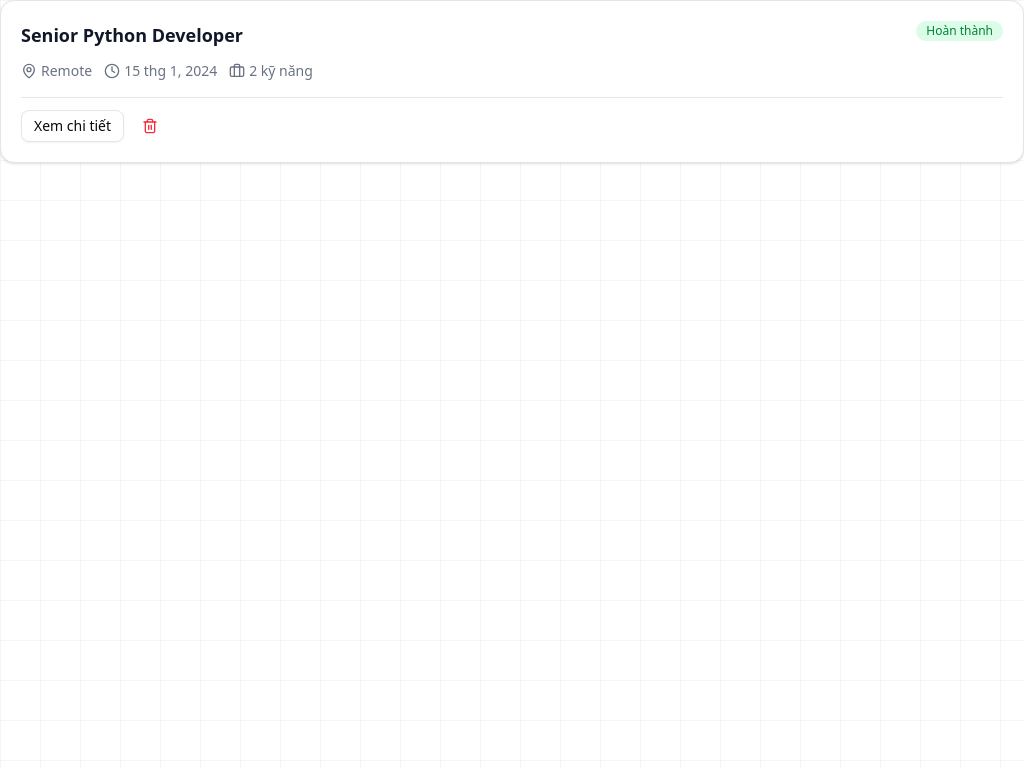
JDCard › shows delete confirmation dialog when delete button clicked
This screenshot has width=1024, height=768.
Step 1. Click the button named "Xóa JD" → click(150, 126), box [132, 110, 168, 142]
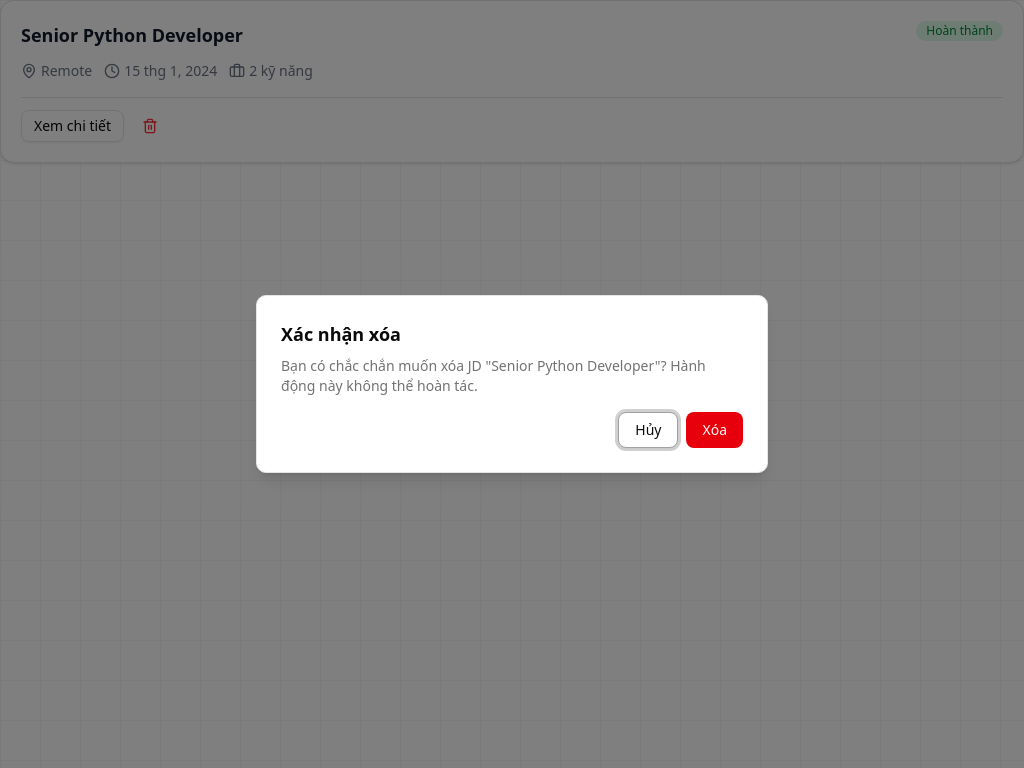
expect the heading "Xác nhận xóa" is shown: met, box [281, 322, 401, 346]
expect the text "Bạn có chắc chắn muốn xóa JD" is shown: met, box [281, 356, 491, 375]
